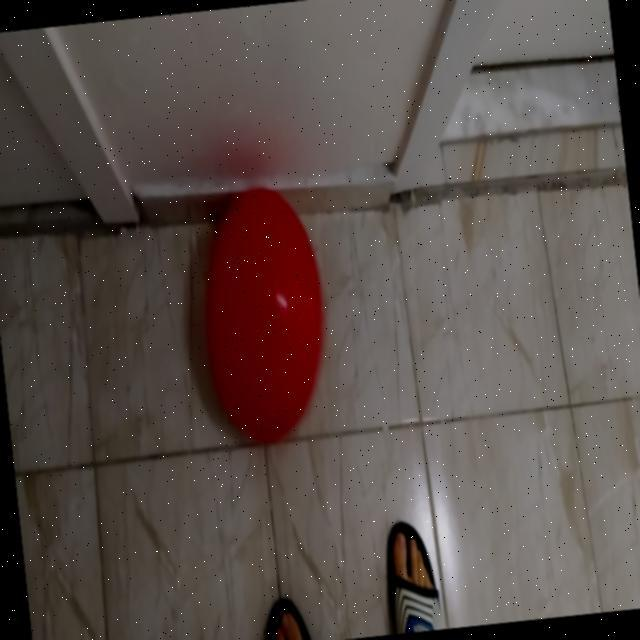balloon: (185, 168, 342, 456)
